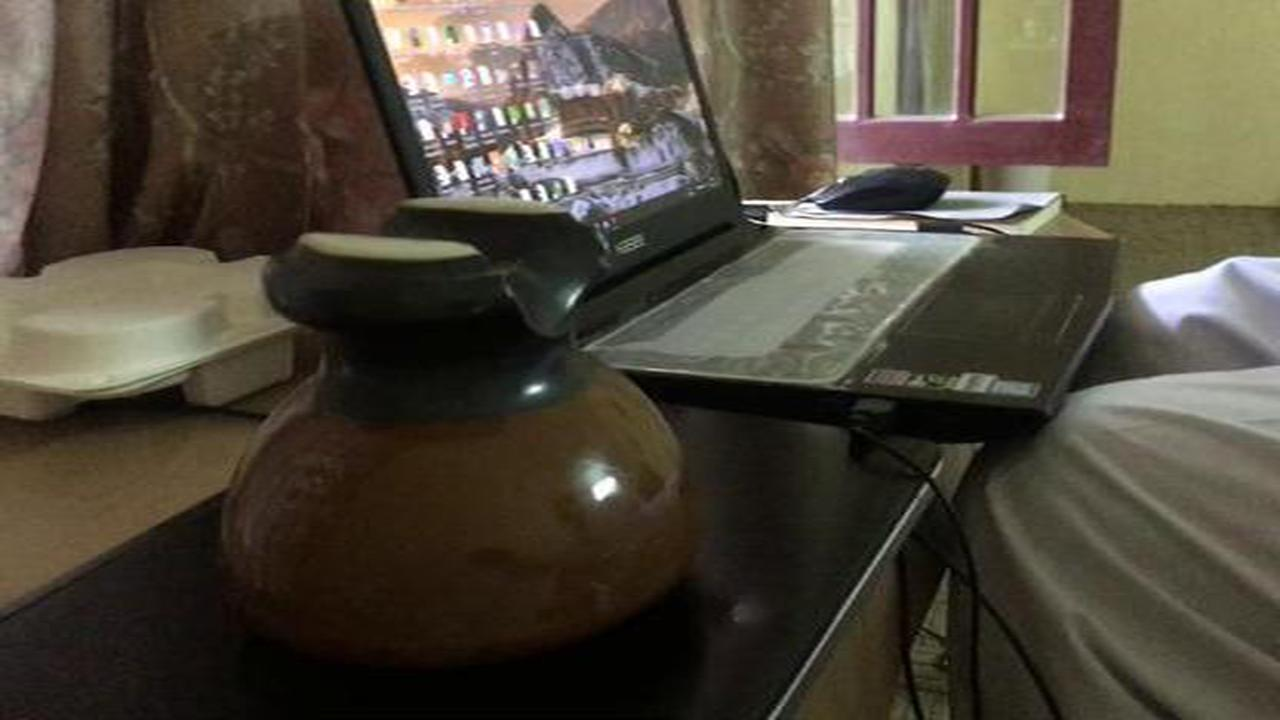insulator_pin: (182, 188, 721, 674)
